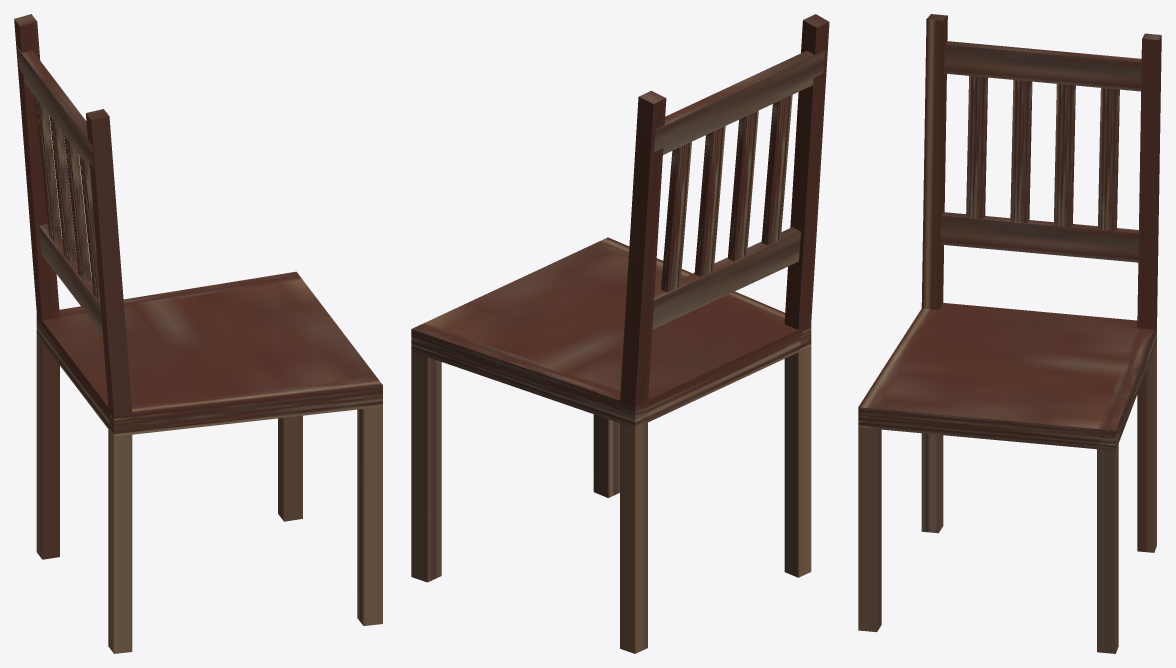
The model's file is cadeira.fbx.
3 renders of one model, left to right at view 1: azimuth 30°, elevation 25°; view 2: azimuth 150°, elevation 25°; view 3: azimuth 270°, elevation 25°, orthographic. The views are drawn at different scales.
Parts seen in each view (by area): view 1: Cube.009; view 2: Cube.009; view 3: Cube.009.
Boxes of the visible parts, x1=… form: Cube.009: x1=14, y1=14, x2=382, y2=653; Cube.009: x1=411, y1=14, x2=829, y2=653; Cube.009: x1=858, y1=14, x2=1161, y2=653.
Bounding box in the file's own units: 169 × 285 × 156.
